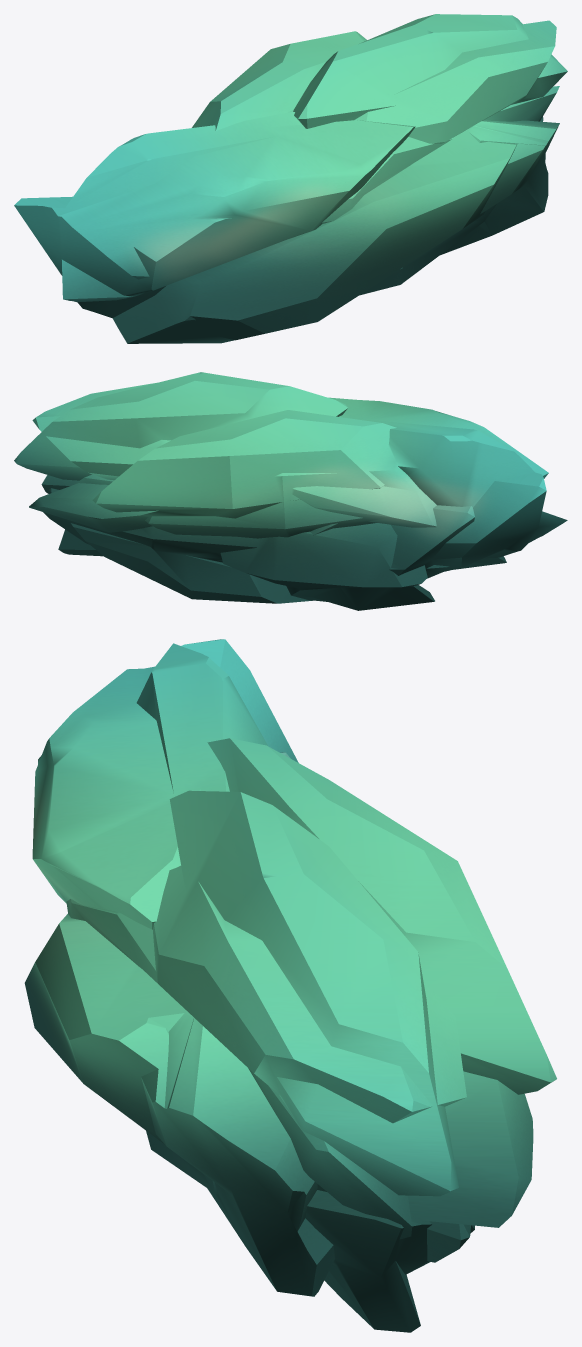
File: BgMD_Rock_02_03.fbx
The picture shows the model from 3 angles, top to bottom: view 1: azimuth 30°, elevation 25°; view 2: azimuth 150°, elevation 25°; view 3: azimuth 270°, elevation 25°; orthographic projection. The views are drawn at different scales.
Parts seen in each view (by area): view 1: BgMD_Rock01_01:polySurface99; view 2: BgMD_Rock01_01:polySurface99; view 3: BgMD_Rock01_01:polySurface99.
Boxes of the visible parts, left/top/right/bottom form: BgMD_Rock01_01:polySurface99: left=14, top=14, right=567, bottom=343; BgMD_Rock01_01:polySurface99: left=14, top=372, right=567, bottom=610; BgMD_Rock01_01:polySurface99: left=24, top=639, right=556, bottom=1332.
Size of the model in its own units: 202 by 78.11 by 98.17.
